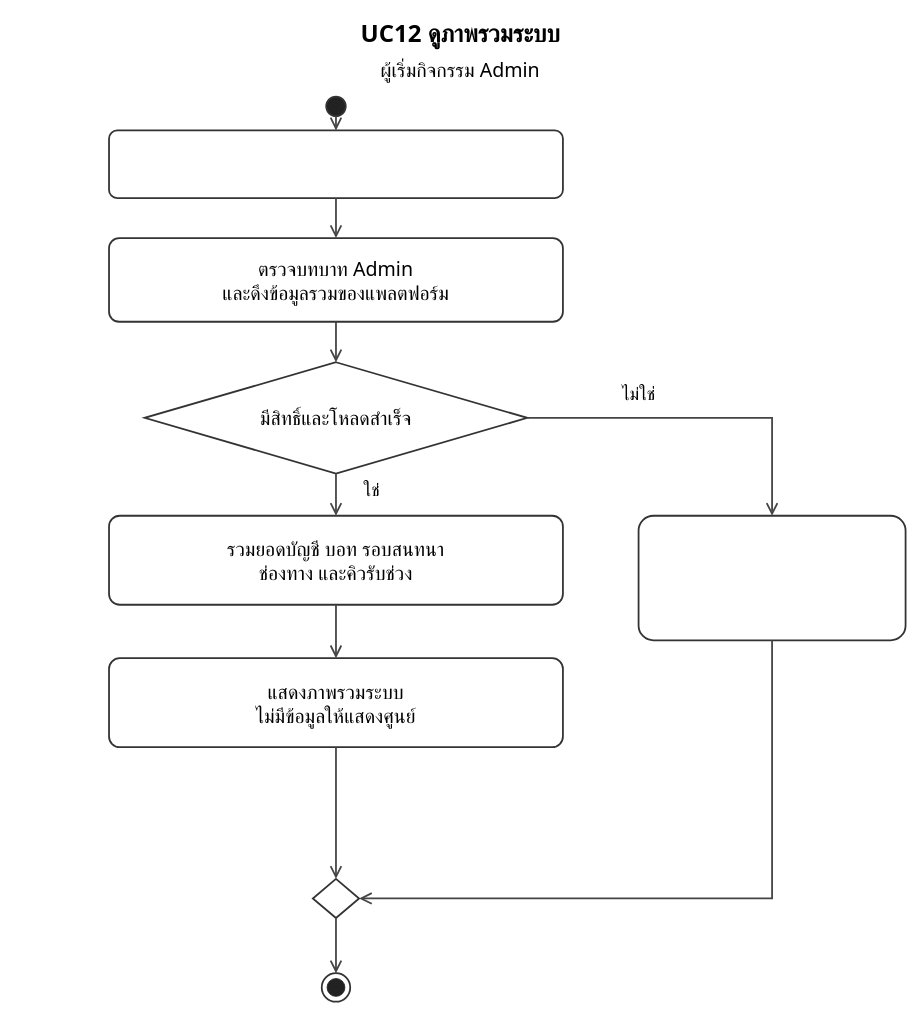
Some shapes in this 921 by 1017 pixel diagram are drawn without their labels. The shapes that lost their labels are listed below. From the top down, each one's centre as x and y in pixels, then its label:
the point at 335,163: เปิดเมนูภาพรวมระบบ
the point at 771,577: ไม่มีสิทธิ์: ปฏิเสธ โหลดผิดพลาด: แจ้งผล ให้ลองใหม่
